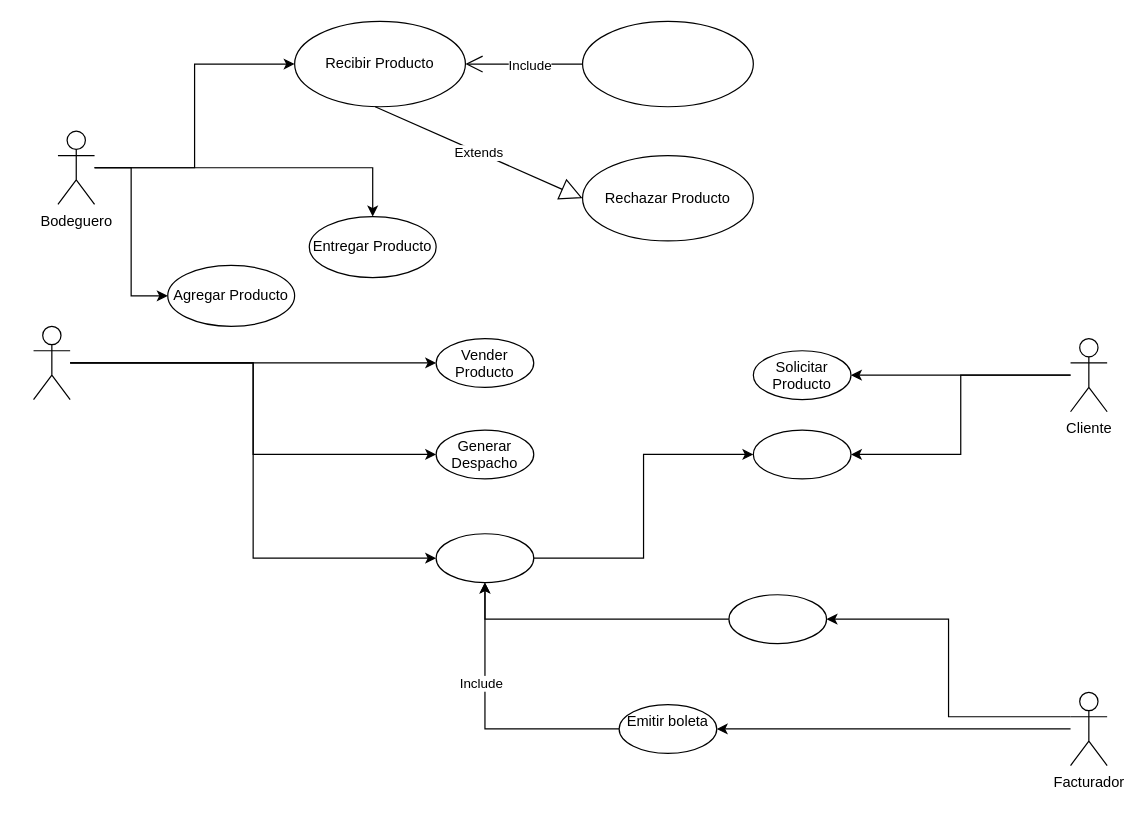
Some shapes in this 1146 by 813 pixel diagram are drawn without their labels. The shapes that lost their labels are listed below. From the top down, each one's centre as x and y in pixels, then its label:
At pixel 667 63: "Revisar OC".
At pixel 51 362: "Vendedor".
At pixel 801 454: "Pagar Producto".
At pixel 484 558: "Generar NDV".
At pixel 777 619: "Emitir Factura".
